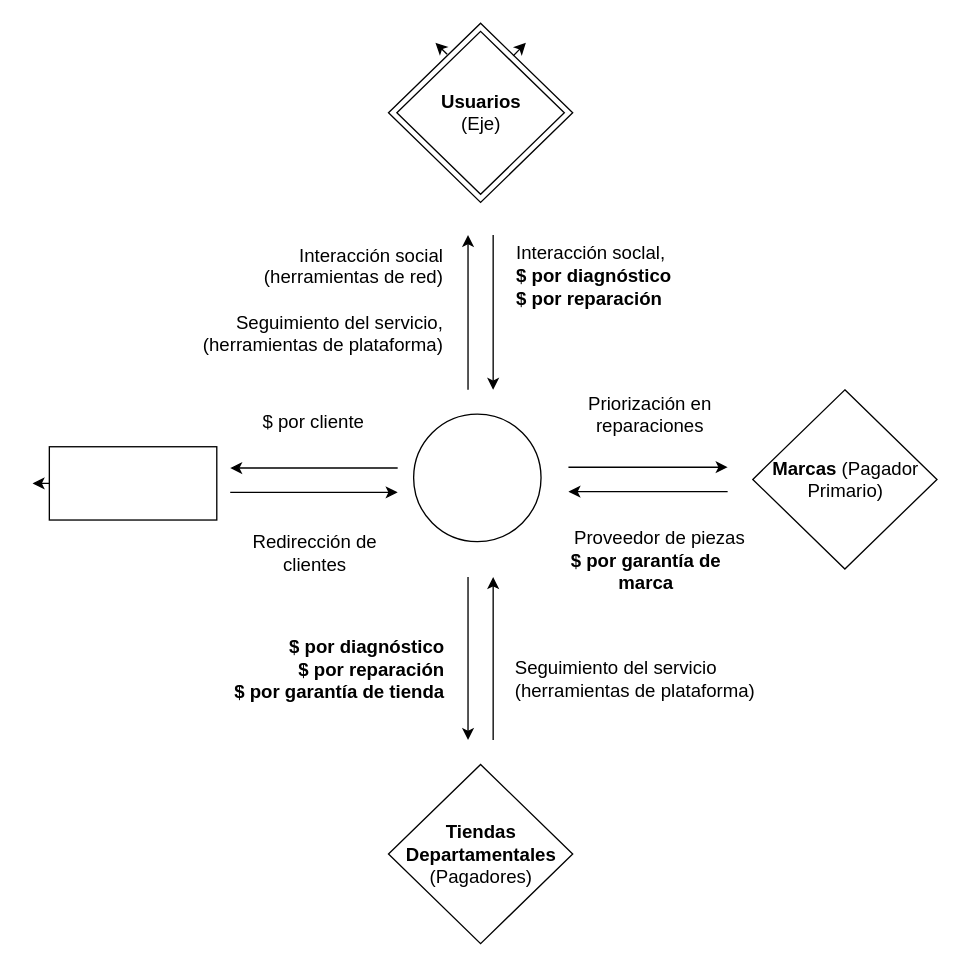
Image size: 960x967. Some labels were removed from this diagram. The centre of each missing label's shape, as x and y in pixels:
"Agiotech (Plataforma)" belongs at [476,477].
"Socios («Gancho»)" belongs at [132,482].
